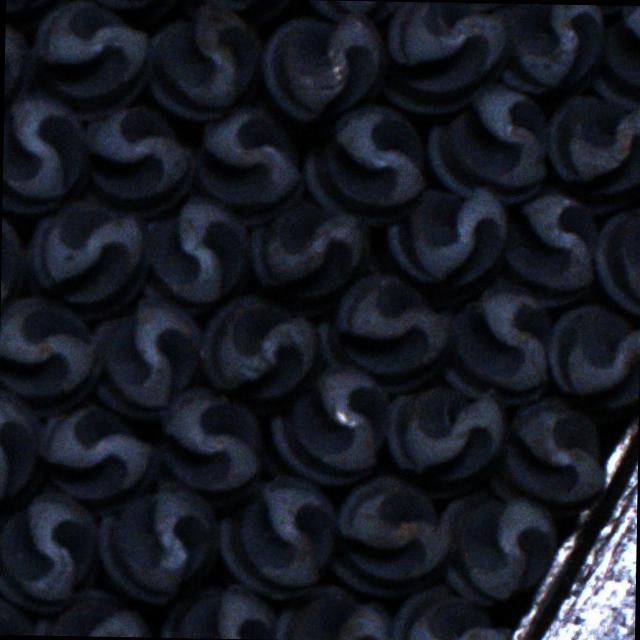tool_b: (312, 276, 448, 396), (24, 195, 148, 322), (266, 363, 390, 487), (98, 482, 222, 606), (24, 0, 150, 121), (260, 10, 387, 130), (326, 476, 448, 600), (218, 476, 338, 602), (385, 184, 510, 304), (428, 86, 552, 206), (300, 104, 425, 222), (436, 490, 556, 608), (146, 1, 264, 121), (249, 196, 371, 312), (198, 296, 320, 412), (438, 280, 550, 406), (380, 3, 504, 116), (387, 383, 507, 497), (192, 104, 306, 224), (88, 297, 200, 418), (488, 396, 604, 512), (38, 400, 158, 510), (84, 101, 196, 218), (153, 386, 264, 504), (142, 194, 250, 310), (0, 491, 100, 613), (501, 186, 599, 305), (546, 89, 640, 212), (0, 297, 98, 413), (546, 303, 640, 422), (3, 92, 92, 214), (491, 3, 604, 96), (156, 583, 278, 639), (388, 585, 510, 640), (274, 584, 393, 640), (30, 588, 156, 637), (0, 384, 42, 515), (594, 202, 640, 318), (593, 6, 640, 110), (0, 190, 26, 334), (3, 0, 29, 124), (75, 0, 205, 20), (192, 0, 305, 22), (299, 0, 423, 20), (0, 590, 35, 634), (5, 0, 79, 19)
